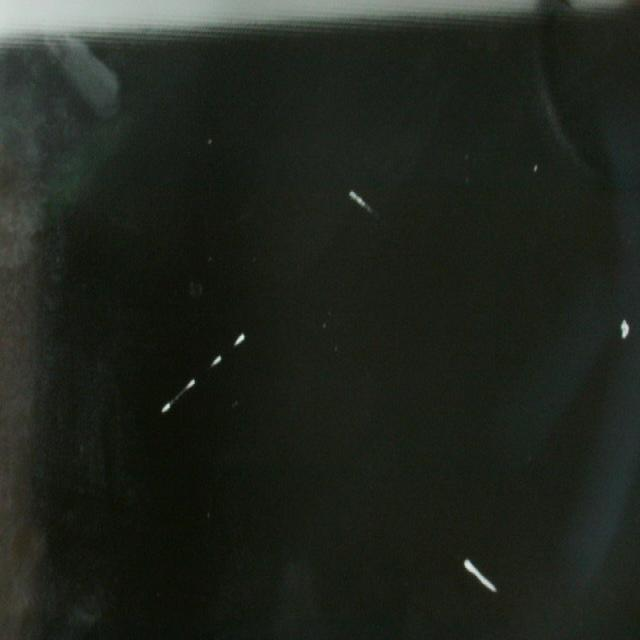scratch: (155, 316, 251, 426), (452, 544, 503, 604), (339, 182, 379, 218)
very small scratch: (614, 310, 635, 345)
